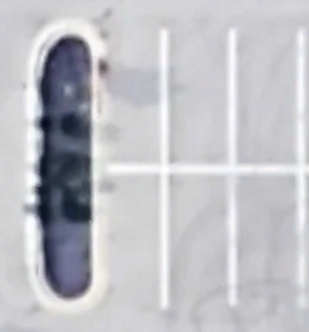Vacant: (95, 168, 165, 308), (95, 29, 164, 169), (164, 30, 233, 169), (232, 169, 302, 306), (165, 168, 233, 307), (233, 31, 301, 169)
